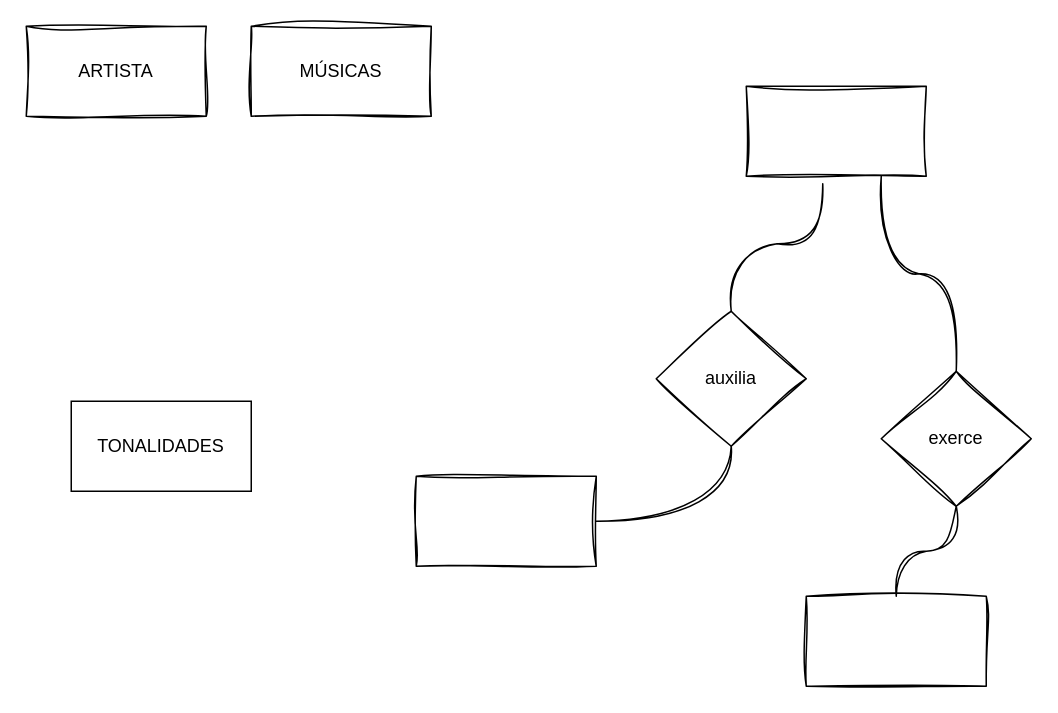
Image size: 1058x713. Some labels were removed from this diagram. Here are the shapes that lost their labels. From the top down, the centre of each, then its label:
At [835,130]: "MÚSICOS".
At [505,520]: "CULTO ESCALA".
At [895,640]: "FUNÇÃO".
